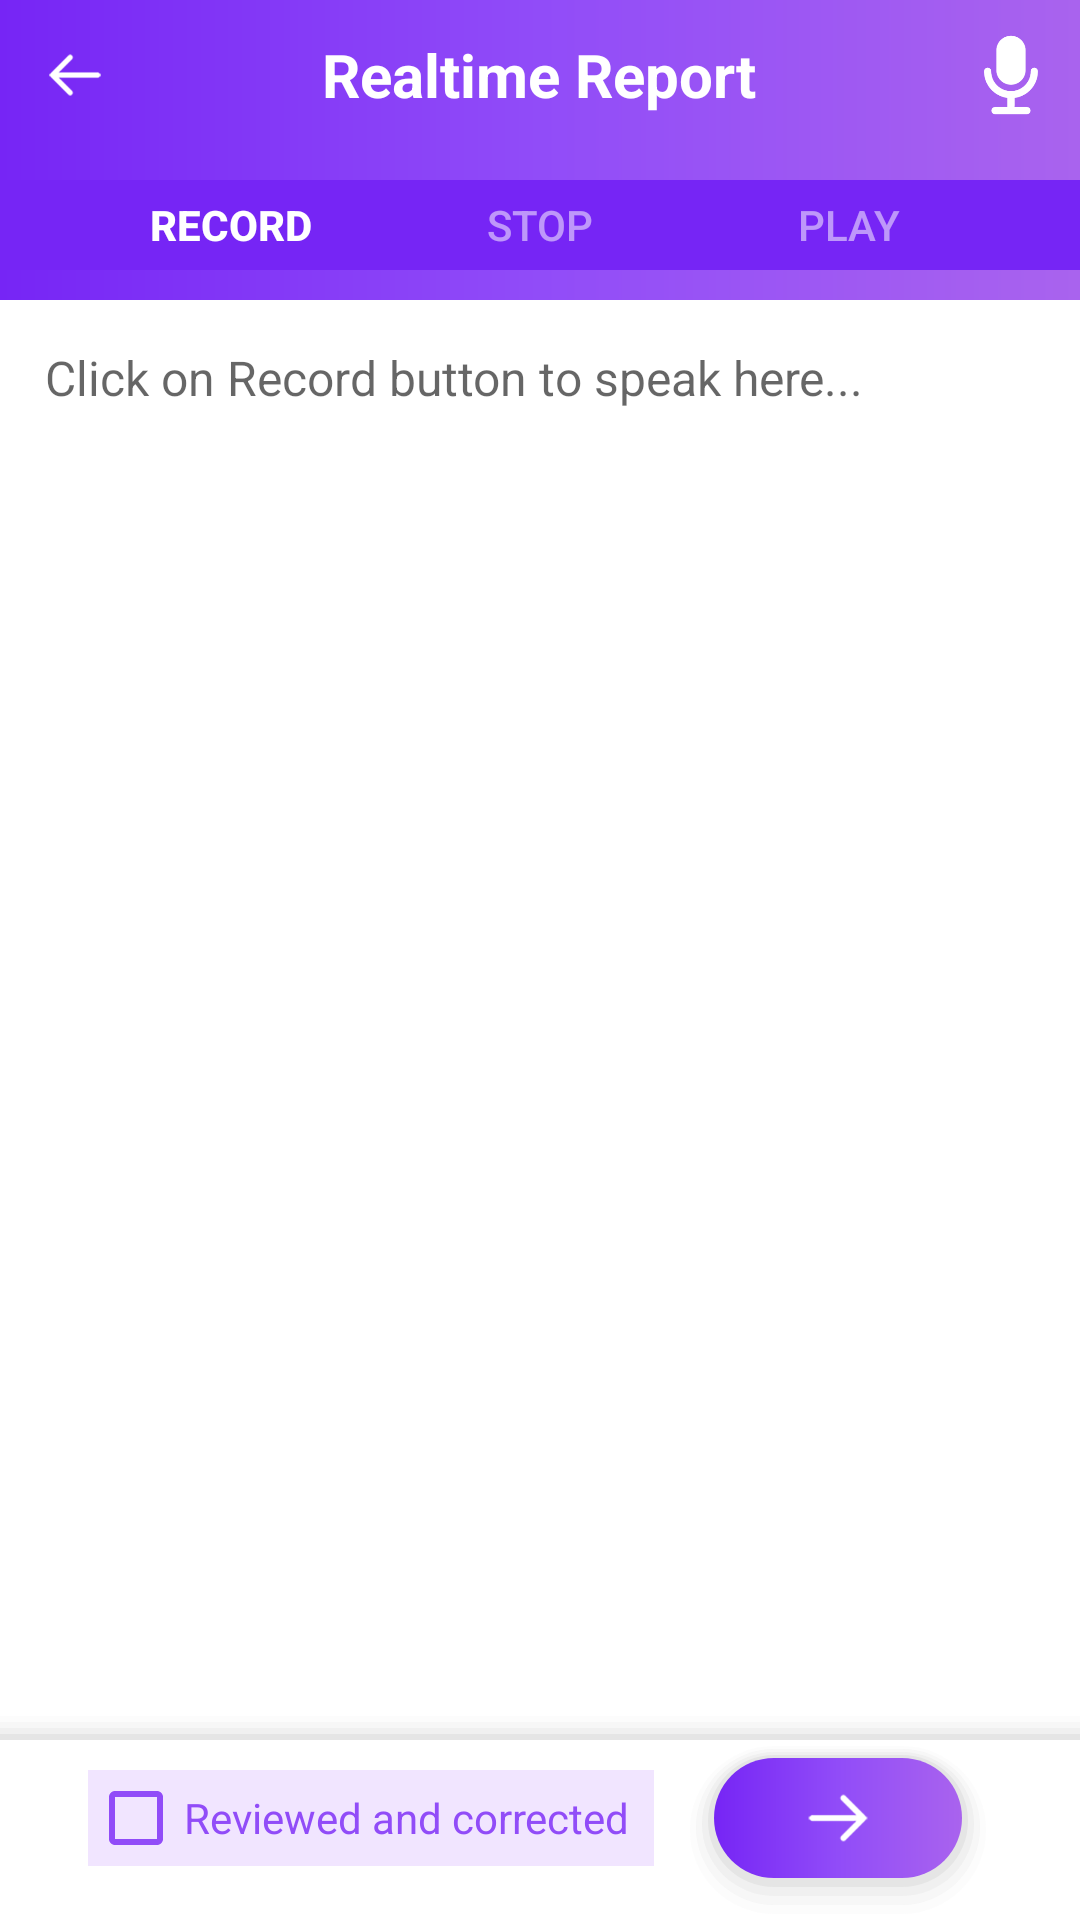

Screen size 1080px x 1920px. Icon name, then its box in pixels as (x1, y1, x2, y2):
audio: (984, 35, 1038, 115)
leftarrow: (49, 54, 101, 96)
rightarrow: (708, 1755, 968, 1887)
